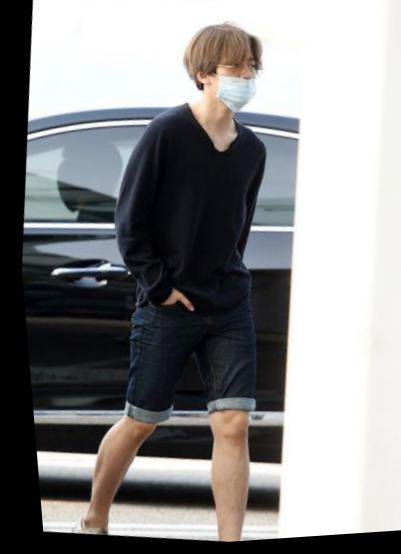WRONG: (201, 48, 265, 111)
